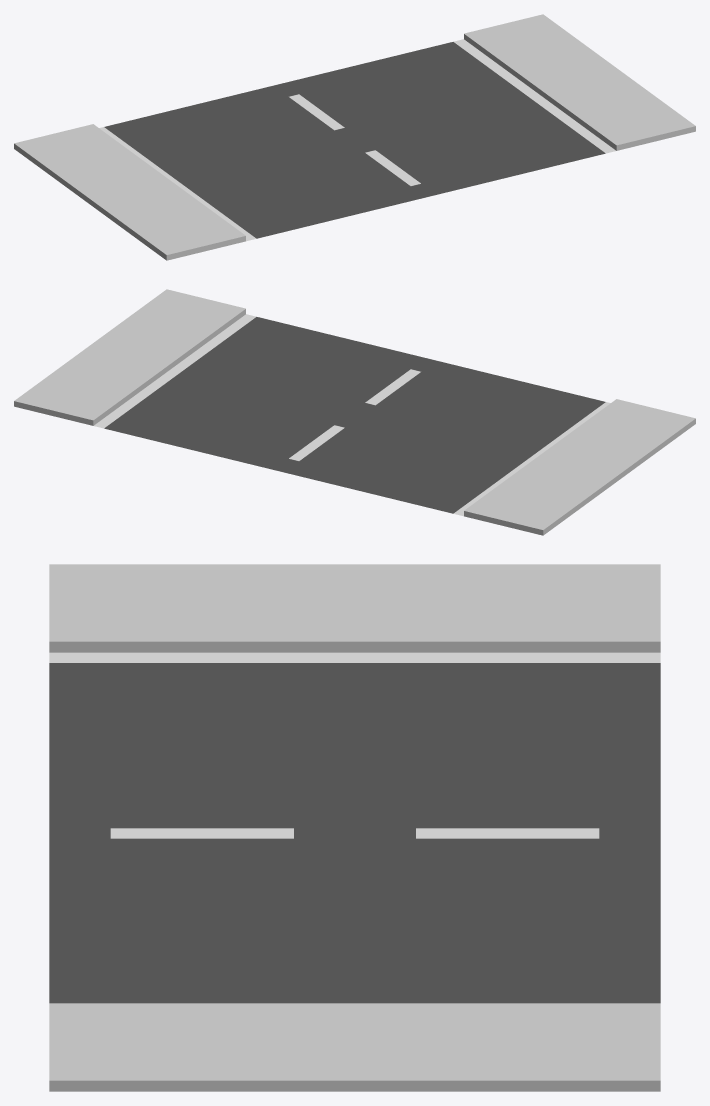
The model's file is road-lane-half.glb.
The picture shows the model from 3 angles, top to bottom: view 1: azimuth 30°, elevation 25°; view 2: azimuth 150°, elevation 25°; view 3: azimuth 270°, elevation 25°; orthographic projection. The views are drawn at different scales.
Visible parts, largest first — view 1: model; view 2: model; view 3: model.
Boxes of the visible parts, x1,y1,x2,y2 form: model: (14,14,695,260); model: (14,289,695,535); model: (49,564,660,1091).
Size of the model in its own units: 20 by 0.2 by 10.
1 material, 1 textured.
